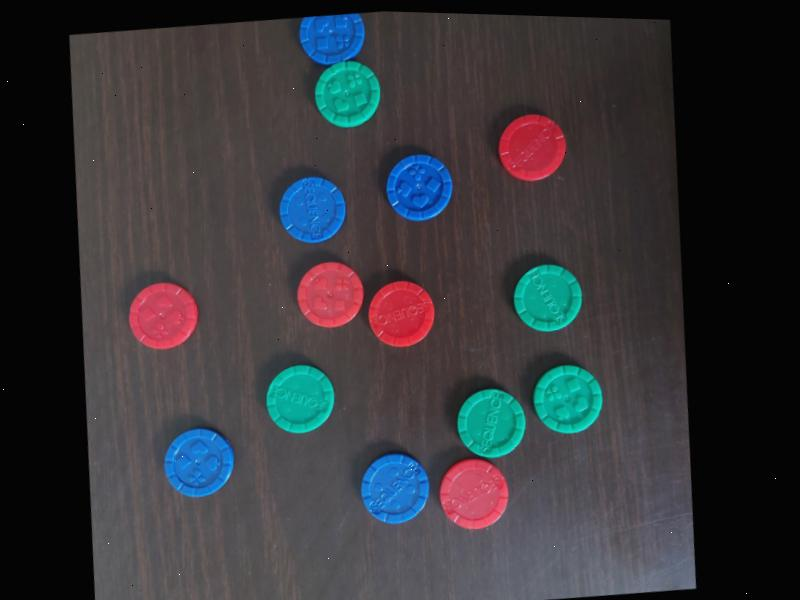Blue_Token: (152, 418, 244, 506), (350, 443, 439, 532), (376, 147, 458, 230), (270, 170, 352, 251), (292, 11, 370, 70)
Green_Token: (523, 357, 610, 442), (504, 255, 591, 339), (448, 381, 534, 465), (256, 358, 341, 441), (307, 55, 387, 135)
Red_Token: (431, 452, 516, 536), (488, 107, 574, 188), (359, 273, 442, 355), (121, 274, 203, 356), (288, 254, 370, 335)
